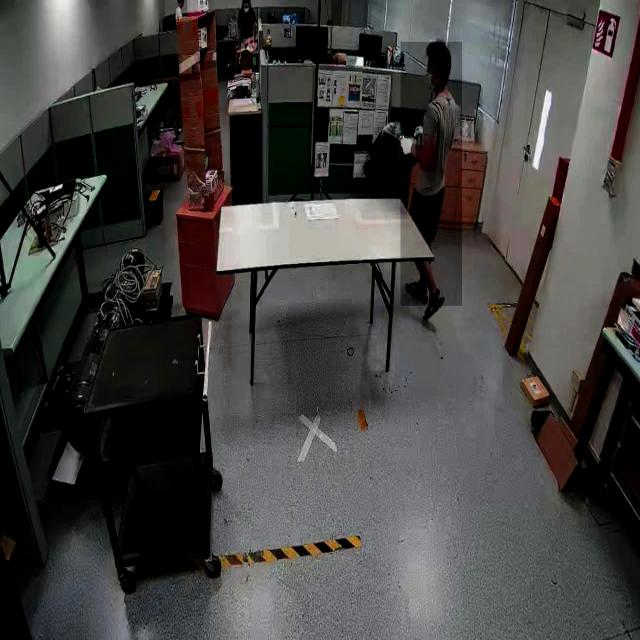face_mask: (422, 65, 442, 99), (242, 2, 251, 18)
hand_glove: (398, 134, 416, 166)
head_nohelmet: (427, 40, 451, 59)
person: (400, 41, 462, 306), (236, 0, 264, 59)
